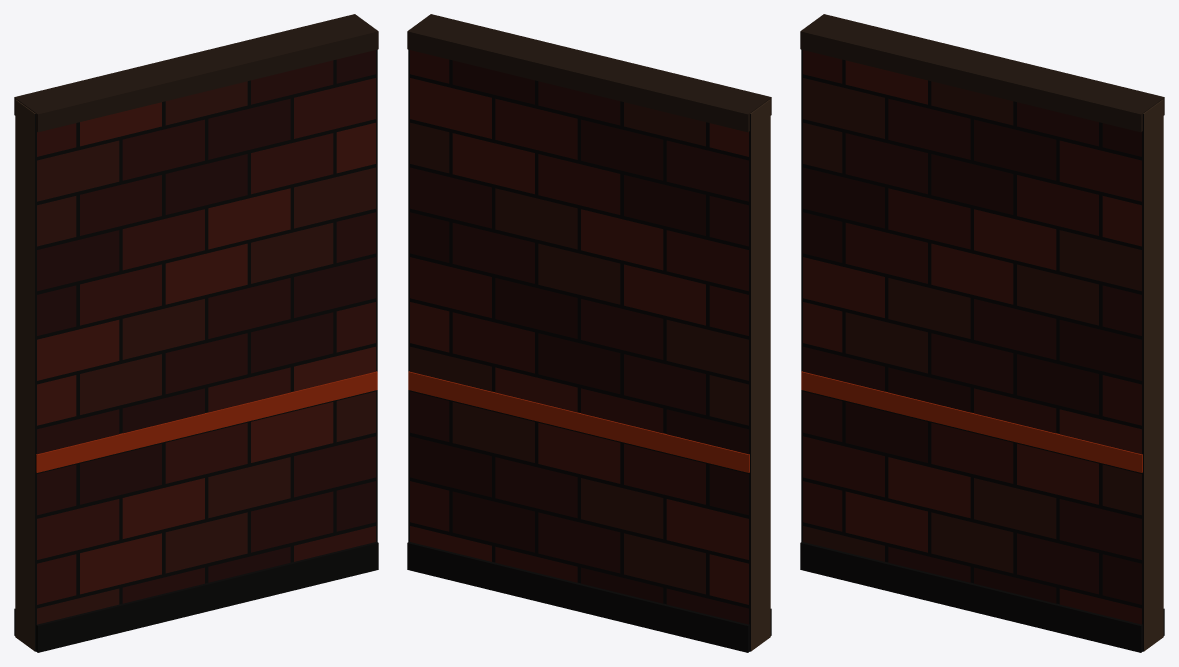
Rendered from SM_Wall_2x3_Hideout.glb.
3 renders of one model, left to right at view 1: azimuth 30°, elevation 25°; view 2: azimuth 150°, elevation 25°; view 3: azimuth 330°, elevation 25°, orthographic.
Parts seen in each view (by area): view 1: SM_Wall_2x3_Hideout-col; view 2: SM_Wall_2x3_Hideout-col; view 3: SM_Wall_2x3_Hideout-col.
Boxes of the visible parts, x1,y1,x2,y2 form: SM_Wall_2x3_Hideout-col: [14, 14, 378, 652]; SM_Wall_2x3_Hideout-col: [407, 14, 771, 652]; SM_Wall_2x3_Hideout-col: [800, 14, 1164, 652].
Size of the model in its own units: 2 by 3 by 0.24.
